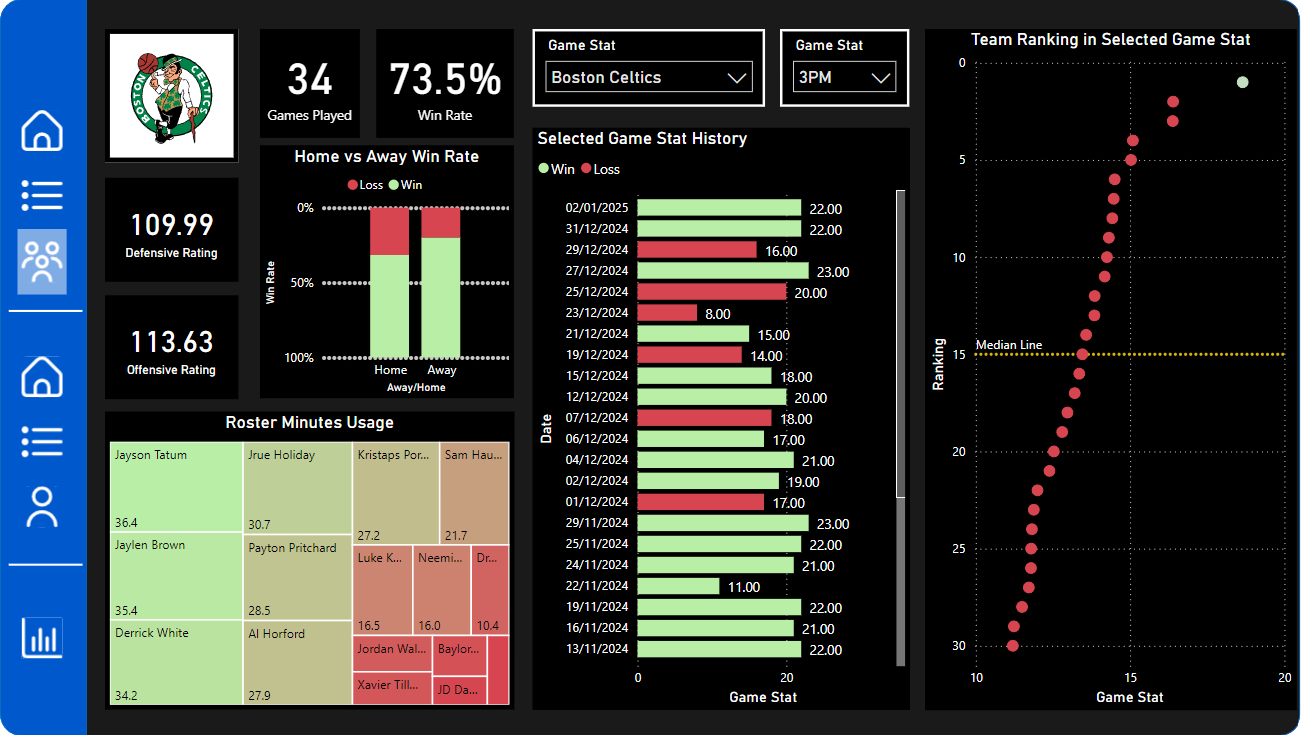

This screenshot's page, from the dashboard's own definition file:
{"tool":"powerbi","page":{"name":"Specific Team Stats","canvas":[1280,720],"ordinal":5},"visuals":[{"type":"shape","box":[77.5,0,1194.4,720],"z":0},{"type":"shape","box":[0,0,85,720],"z":1000},{"type":"barChart","title":"Selected Game Stat History","fields":{"Category":["game_result.date"],"Y":["game_result.stat_win_measure","game_result.stat_lose_measure"]},"box":[520,126.2,368.8,568.8],"z":2000},{"type":"slicer","fields":{"Values":["MeasureFilter.FilterTable"]},"box":[762.5,28.8,126.2,76.2],"z":3000},{"type":"simpleImageEBC4593F96F1425FB3D84C5BF02B5075","fields":{"imageURL":["team_slicer_specific.Logo"],"altText":["team_slicer_specific.ShortName"]},"box":[102.7,29.1,130,130],"z":4000},{"type":"hundredPercentStackedColumnChart","title":"Home vs Away Win Rate","fields":{"Category":["game_result.home_court"],"Y":["CountNonNull(game_result.result)"],"Series":["game_result.result"]},"box":[254,143.3,248,247.3],"z":5000},{"type":"scatterChart","title":"Team Ranking in Selected Game Stat","fields":{"X":["records.Dynamic Stat"],"Category":["records.Team"],"Y":["records.measure_stat_rank"]},"box":[903.3,28.9,363.3,665.6],"z":6000},{"type":"card","fields":{"Values":["CountNonNull(game_result.date)"]},"box":[253.8,28.8,97.5,106.2],"z":7000},{"type":"slicer","fields":{"Values":["team_slicer_specific.Team"]},"box":[520,28.8,227.5,76.2],"z":8000},{"type":"card","fields":{"Values":["Avg(stats.def_rating)"]},"box":[102.3,174.6,130,101.5],"z":9000},{"type":"card","fields":{"Values":["Avg(stats.off_rating)"]},"box":[102.3,289.2,130,101.5],"z":10000},{"type":"card","fields":{"Values":["game_result.measure_win%"]},"box":[367.6,28.8,134.7,106.5],"z":11000},{"type":"treemap","title":"Roster Minutes Usage","fields":{"Group":["stats.name"],"Values":["Avg(stats.cc_minutes)"]},"box":[102.2,403.3,400,291.1],"z":12000}]}

Visuals, with their boxes on the page's 1280x720 design canvas (x1, y1, x2, y2). These are canvas units, not pixel positions in the 1302x735 screenshot, which may show the page scaled, cropped or inside an application window:
shape: (78, 0, 1272, 720)
shape: (0, 0, 85, 720)
"Selected Game Stat History" barChart: (520, 126, 889, 695)
slicer - MeasureFilter.FilterTable: (762, 29, 889, 105)
simpleImageEBC4593F96F1425FB3D84C5BF02B5075 - team_slicer_specific.Logo x team_slicer_specific.ShortName: (103, 29, 233, 159)
"Home vs Away Win Rate" hundredPercentStackedColumnChart: (254, 143, 502, 391)
"Team Ranking in Selected Game Stat" scatterChart: (903, 29, 1267, 694)
card - CountNonNull(game_result.date): (254, 29, 351, 135)
slicer - team_slicer_specific.Team: (520, 29, 748, 105)
card - Avg(stats.def_rating): (102, 175, 232, 276)
card - Avg(stats.off_rating): (102, 289, 232, 391)
card - game_result.measure_win%: (368, 29, 502, 135)
"Roster Minutes Usage" treemap: (102, 403, 502, 694)
